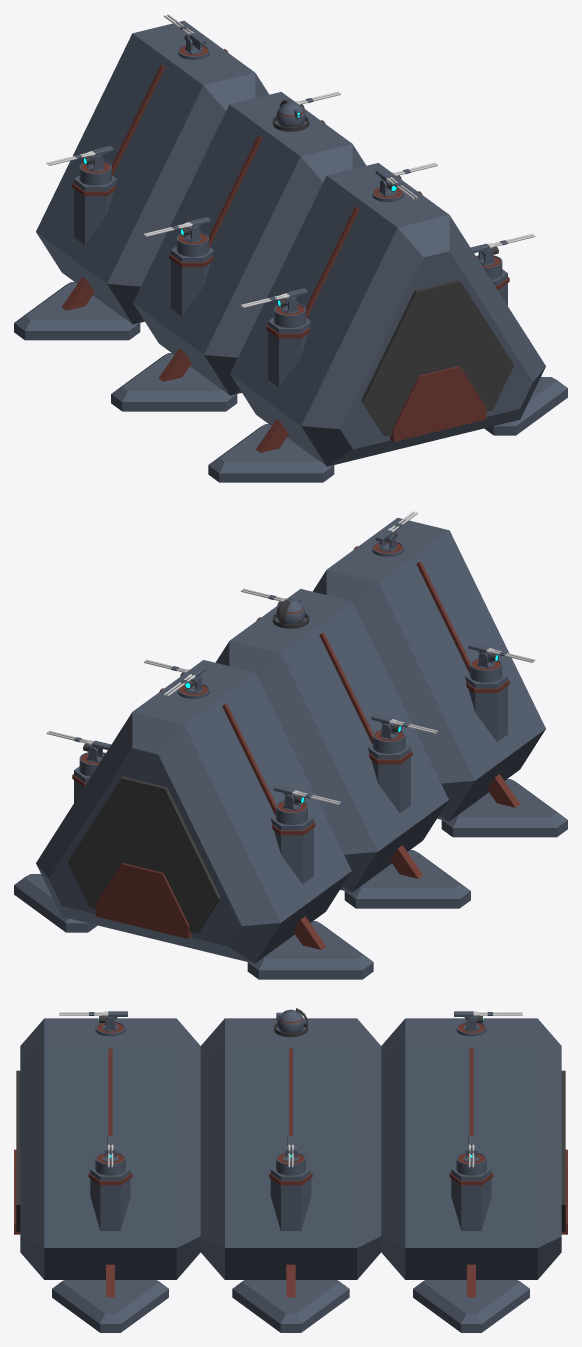
Rendered from DroneCarrier.fbx.
The picture shows the model from 3 angles, top to bottom: view 1: azimuth 30°, elevation 25°; view 2: azimuth 150°, elevation 25°; view 3: azimuth 270°, elevation 25°; orthographic projection. The views are drawn at different scales.
Visible parts, largest first — view 1: pCylinder5, pCylinder34, pCube14, pCylinder11, pCylinder9, pCylinder7, pCylinder37, pCylinder40, pCylinder42, pasted__pCylinder88 (×3), pCylinder6, pCube221 (+6 smaller); view 2: pCylinder5, pCylinder12, pCube13, pCylinder7, pCylinder9, pCylinder11, pCylinder42, pCylinder40, pCylinder37, pasted__pCylinder88 (×3), pCylinder10, pCube223 (+5 smaller); view 3: pCylinder5, pCylinder8, pCylinder6, pCylinder10, pCylinder39, pCylinder41, pCylinder38, pasted__pCylinder88 (×3), pCylinder12, pCylinder34, pasted__pSphere11, pCube220 (+1 smaller).
Boxes of the visible parts, x1,y1,x2,y2 form: pCylinder5: [36, 20, 545, 466]; pCylinder34: [361, 279, 514, 436]; pCube14: [390, 366, 486, 441]; pCylinder11: [14, 282, 140, 340]; pCylinder9: [111, 353, 237, 411]; pCylinder7: [208, 424, 334, 482]; pCylinder37: [266, 317, 311, 387]; pCylinder40: [169, 246, 214, 316]; pCylinder42: [72, 175, 116, 245]; pasted__pCylinder88 (×3): [79, 161, 305, 327]; pCylinder6: [484, 377, 567, 435]; pCube221: [306, 206, 359, 318]; pCylinder5: [36, 517, 545, 963]; pCylinder12: [67, 776, 220, 933]; pCube13: [95, 863, 191, 938]; pCylinder7: [441, 779, 567, 837]; pCylinder9: [344, 850, 470, 908]; pCylinder11: [247, 921, 373, 979]; pCylinder42: [270, 814, 315, 884]; pCylinder40: [367, 743, 412, 813]; pCylinder37: [465, 672, 509, 742]; pasted__pCylinder88 (×3): [276, 658, 502, 824]; pCylinder10: [14, 874, 97, 932]; pCube223: [222, 703, 275, 815]; pCylinder5: [20, 1018, 561, 1279]; pCylinder8: [232, 1280, 349, 1332]; pCylinder6: [52, 1280, 168, 1332]; pCylinder10: [413, 1280, 529, 1332]; pCylinder39: [269, 1166, 312, 1230]; pCylinder41: [449, 1166, 493, 1230]; pCylinder38: [88, 1166, 132, 1230]; pasted__pCylinder88 (×3): [95, 1152, 486, 1175]; pCylinder12: [561, 1070, 565, 1231]; pCylinder34: [16, 1070, 20, 1231]; pasted__pSphere11: [277, 1009, 304, 1032]; pCube220: [108, 1048, 112, 1135].
Size of the model in its own units: 92.53 by 66.75 by 137.
